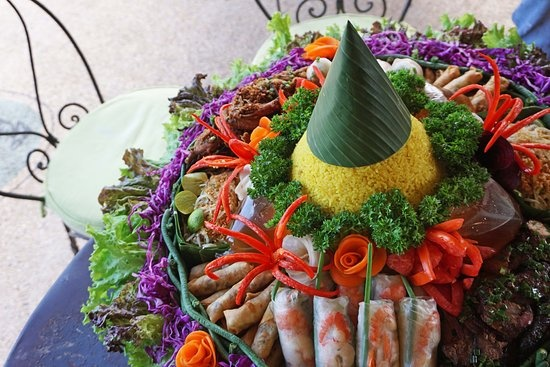tumpeng: (278, 12, 455, 202)
